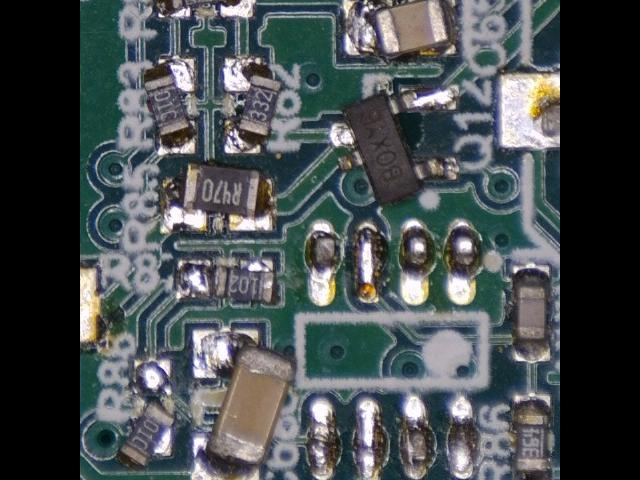Incorrect_installation: (192, 328, 299, 480), (332, 83, 460, 206), (160, 161, 279, 235), (343, 1, 459, 62), (118, 357, 178, 469), (223, 54, 284, 155), (144, 55, 198, 156), (177, 256, 277, 305), (158, 1, 255, 19)
